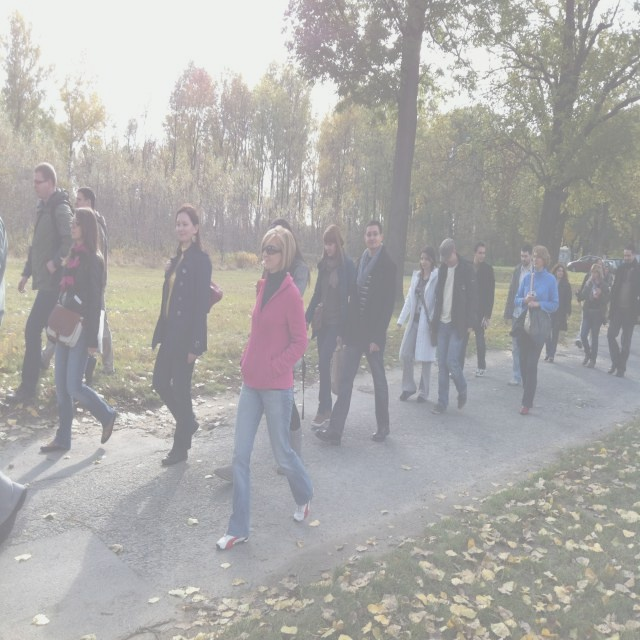pessoa: (214, 224, 315, 552), (230, 224, 312, 486), (149, 205, 224, 468), (41, 206, 118, 454), (314, 220, 398, 447), (3, 161, 78, 409), (303, 223, 358, 428), (429, 237, 477, 414), (74, 187, 116, 376), (514, 244, 560, 416), (396, 245, 440, 403), (448, 240, 496, 380), (606, 242, 640, 380), (504, 244, 534, 386), (572, 262, 610, 368), (543, 262, 573, 362), (574, 257, 606, 350), (602, 265, 614, 290), (586, 250, 594, 268)
